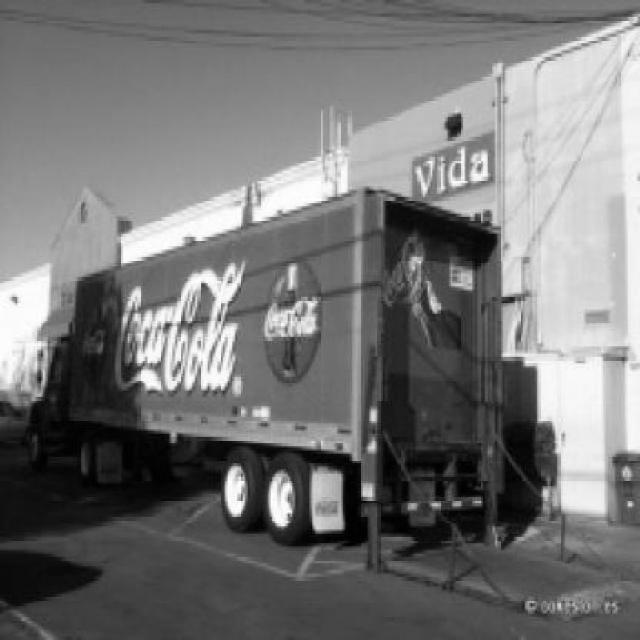Box Truck: (25, 189, 502, 545)
